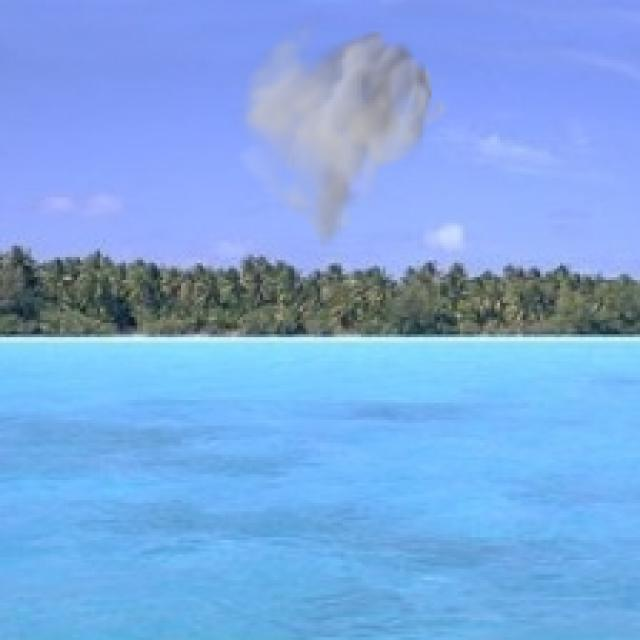smoke: (232, 9, 452, 254)
